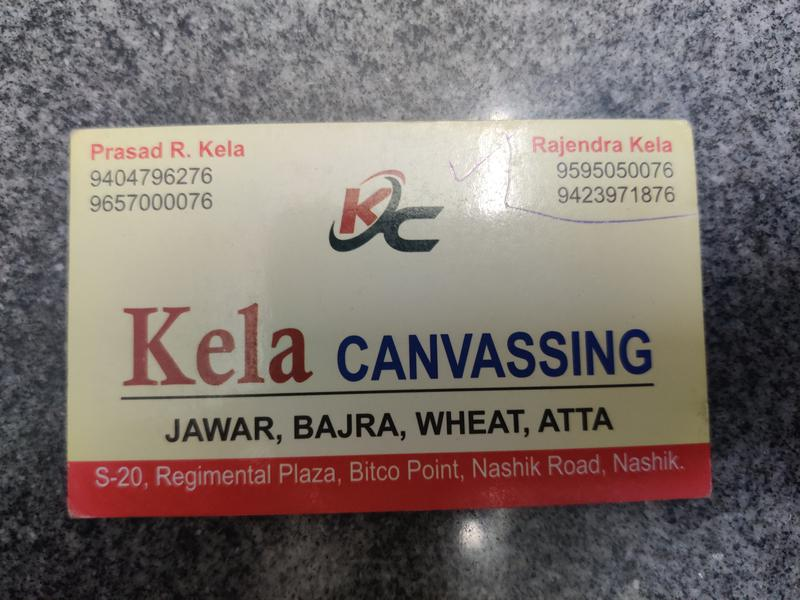card: (62, 114, 713, 521)
